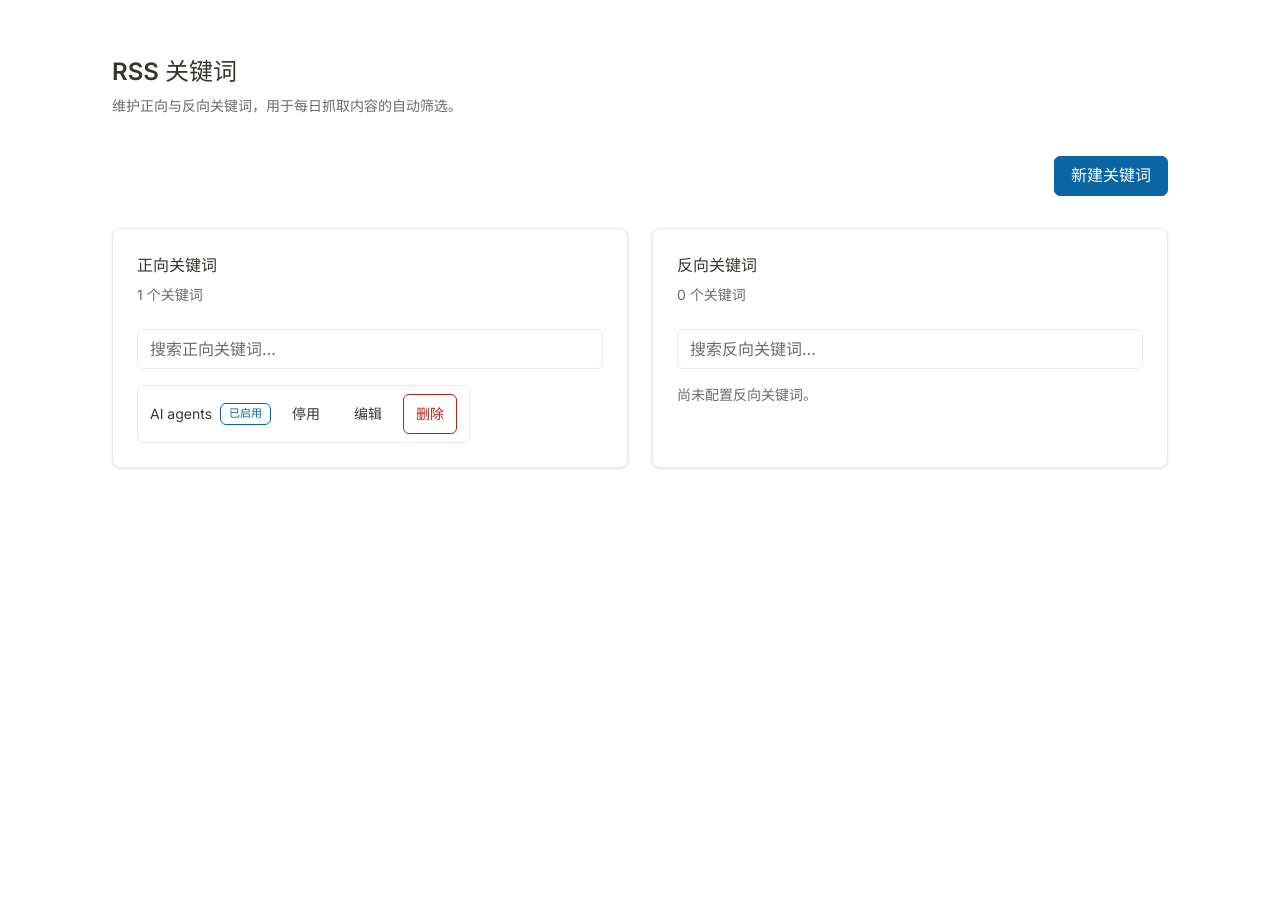
Test case: RssKeywordsPage › requires confirmation before deleting a keyword
This screenshot has width=1280, height=900.
Click the button with aria-label "删除 AI agents".
click(430, 414)  # box [403,394,457,434]
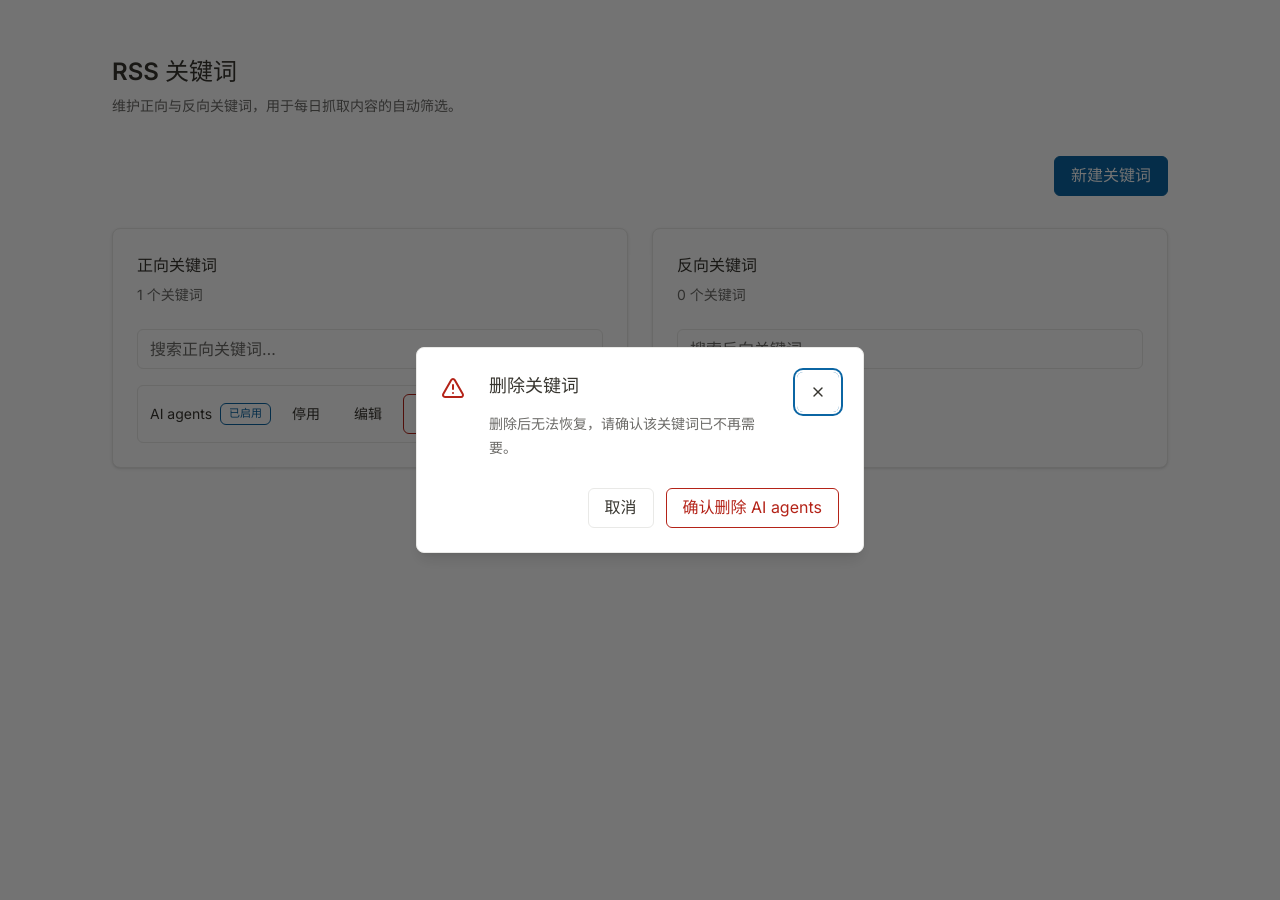
Click the button "确认删除 AI agents".
click(752, 508)  # box [666,488,839,528]
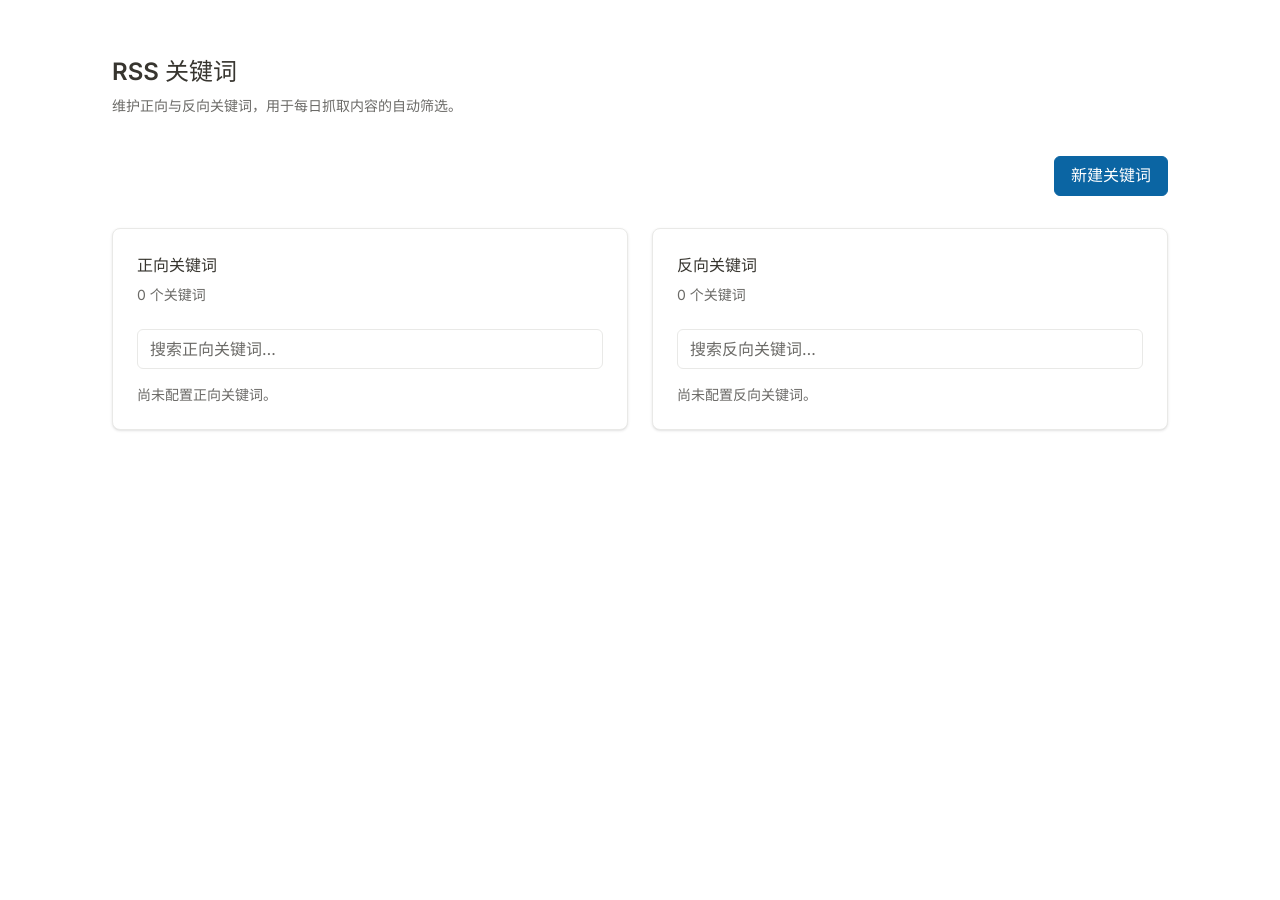
Expected: the element "正向关键词" shows "尚未配置正向关键词", [137,386,277,403]
